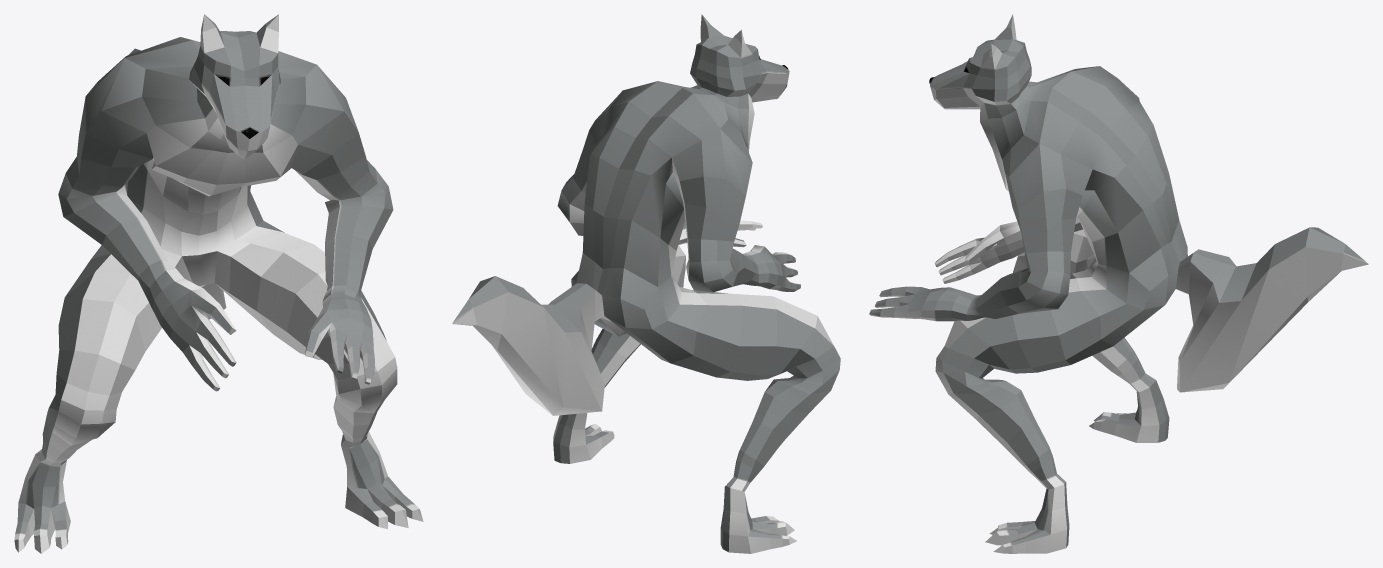
File: WolfAttack(1).obj
3 renders of one model, left to right at view 1: azimuth 30°, elevation 25°; view 2: azimuth 150°, elevation 25°; view 3: azimuth 270°, elevation 25°, orthographic. The views are drawn at different scales.
Visible parts, largest first — view 1: Box001; view 2: Box001; view 3: Box001.
Part boxes in pixels (box(x1,y1,x2,y2)): Box001: box(14, 14, 423, 553); Box001: box(452, 14, 840, 553); Box001: box(869, 14, 1368, 553).
Size of the model in its own units: 77.16 by 119 by 118.
